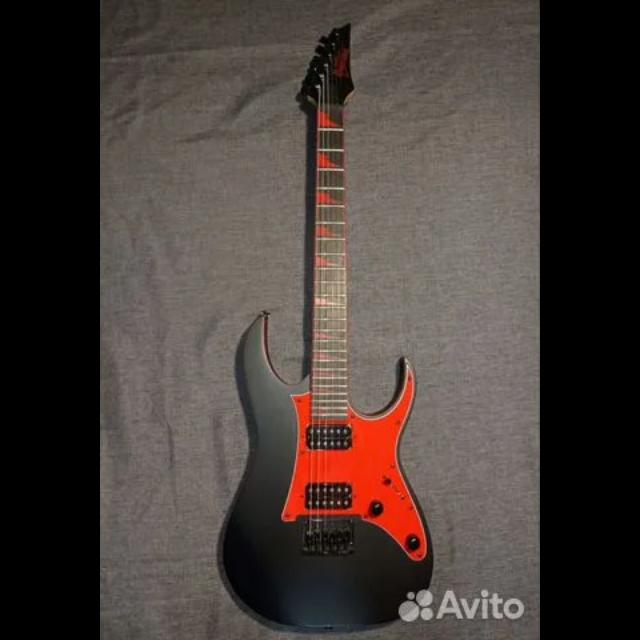Electric-Guitar: (219, 23, 435, 629)
